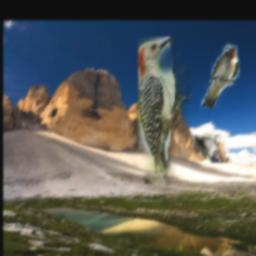Swallow: (201, 45, 240, 110), (191, 134, 223, 163)
Woodpecker: (137, 37, 190, 190)
